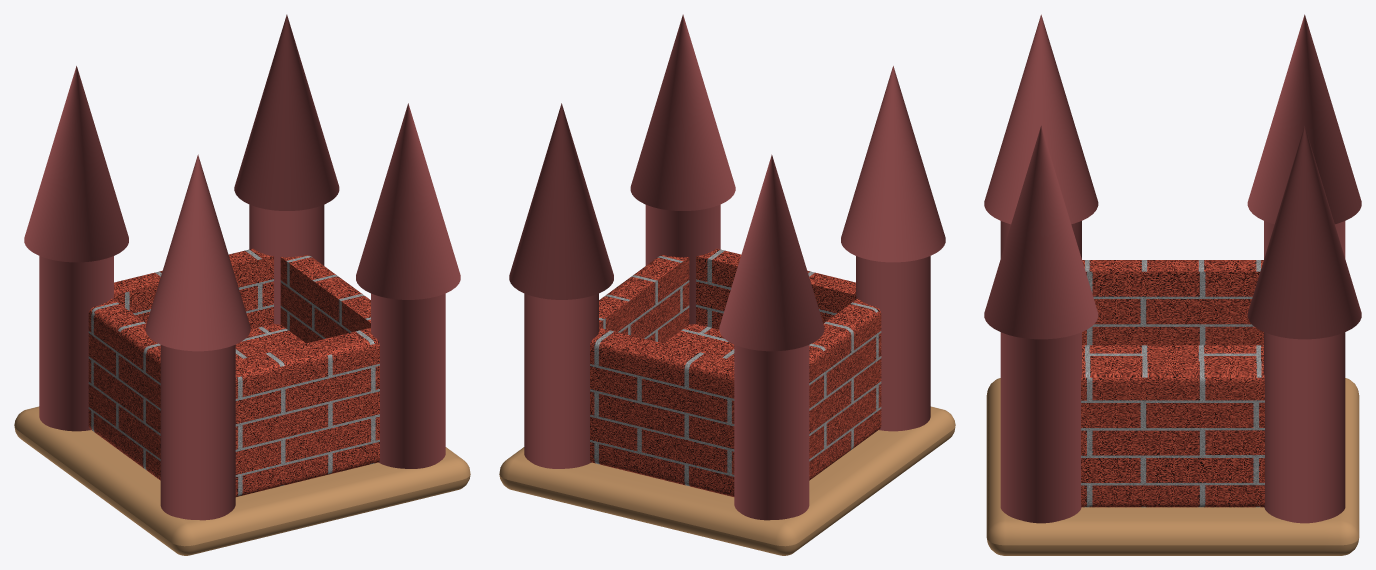
Rendered from cattle.obj.
The picture shows the model from 3 angles, left to right: view 1: azimuth 30°, elevation 25°; view 2: azimuth 150°, elevation 25°; view 3: azimuth 270°, elevation 25°; orthographic projection. The views are drawn at different scales.
Visible parts, largest first — view 1: 立方体.1, 圆锥.1.4, 圆锥.1.3, 圆锥.1.1, 立方体, 圆锥.1.2; view 2: 立方体.1, 圆锥.1.1, 圆锥.1.2, 圆锥.1.4, 立方体, 圆锥.1.3; view 3: 立方体.1, 圆锥.1.3, 圆锥.1.2, 立方体, 圆锥.1.4, 圆锥.1.1.
Part boxes in pixels (<box>): 立方体.1: <box>88,248,379,496</box>; 圆锥.1.4: <box>145,154,250,520</box>; 圆锥.1.3: <box>356,103,460,468</box>; 圆锥.1.1: <box>24,66,128,431</box>; 立方体: <box>14,406,470,555</box>; 圆锥.1.2: <box>234,14,339,324</box>; 立方体.1: <box>590,248,881,496</box>; 圆锥.1.1: <box>719,154,824,520</box>; 圆锥.1.2: <box>509,103,613,468</box>; 圆锥.1.4: <box>841,66,945,431</box>; 立方体: <box>499,406,955,555</box>; 圆锥.1.3: <box>630,14,735,324</box>; 立方体.1: <box>1081,260,1264,507</box>; 圆锥.1.3: <box>984,126,1098,523</box>; 圆锥.1.2: <box>1247,126,1361,523</box>; 立方体: <box>986,378,1359,555</box>; 圆锥.1.4: <box>984,14,1098,258</box>; 圆锥.1.1: <box>1247,14,1361,258</box>.
Size of the model in its own units: 203 by 245 by 203.
